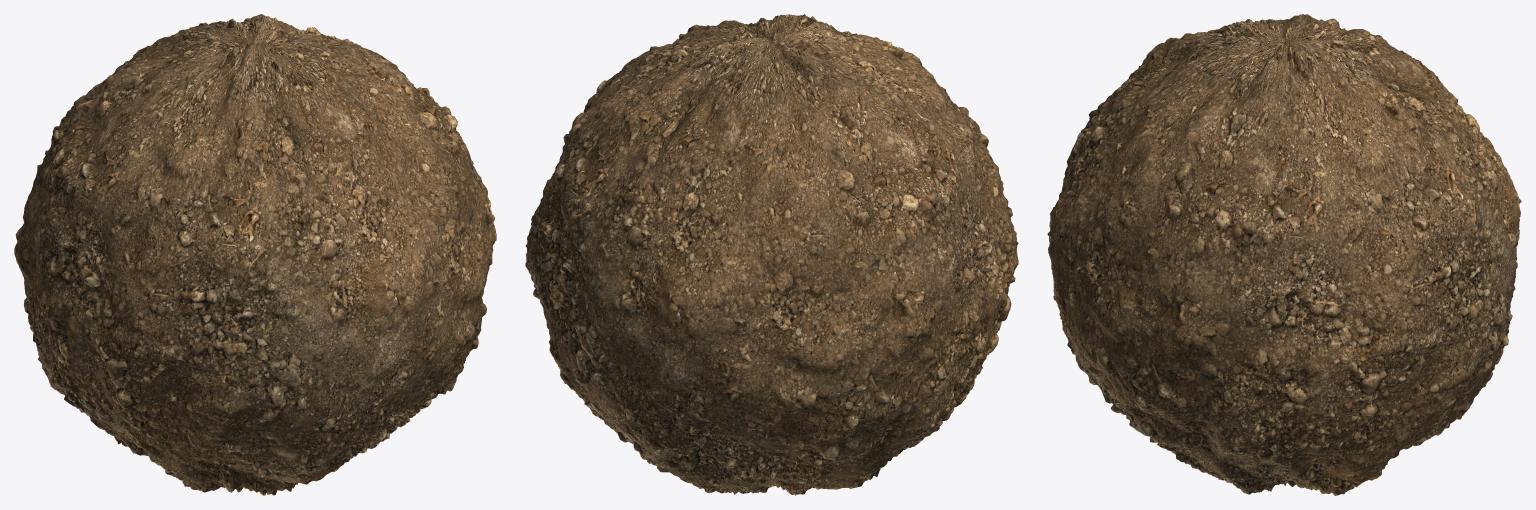
Rendered from brown_mud_dry_1k.gltf.
The picture shows the model from 3 angles, left to right: view 1: azimuth 30°, elevation 25°; view 2: azimuth 150°, elevation 25°; view 3: azimuth 270°, elevation 25°; orthographic projection. The views are drawn at different scales.
Parts seen in each view (by area): view 1: sphere_gltf; view 2: sphere_gltf; view 3: sphere_gltf.
Boxes of the visible parts, x1,y1,x2,y2 form: sphere_gltf: (14,14,496,495); sphere_gltf: (525,14,1018,495); sphere_gltf: (1047,14,1521,495).
Size of the model in its own units: 1.32 by 1.33 by 1.3.
1 material, 1 textured.
